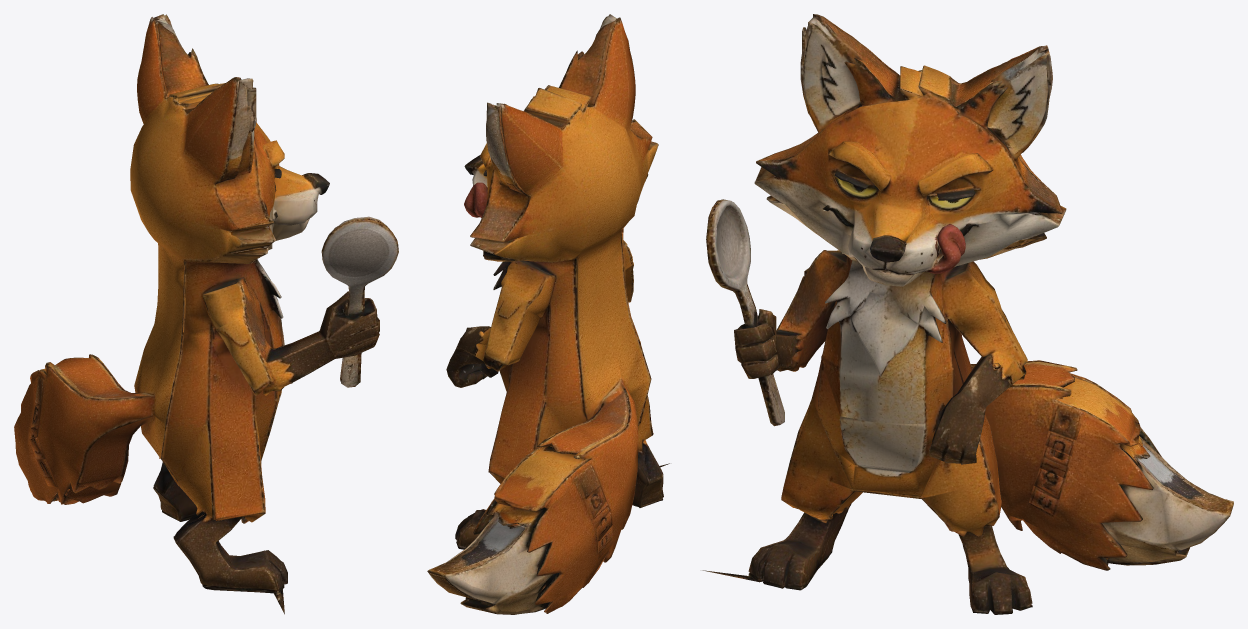
3 renders of one model, left to right at view 1: azimuth 30°, elevation 25°; view 2: azimuth 150°, elevation 25°; view 3: azimuth 270°, elevation 25°, orthographic. The views are drawn at different scales.
Parts seen in each view (by area): view 1: tripo_node_1bc673ec-f310-4784-ba86-549e604a5212; view 2: tripo_node_1bc673ec-f310-4784-ba86-549e604a5212; view 3: tripo_node_1bc673ec-f310-4784-ba86-549e604a5212.
Part boxes in pixels (left/top/right/bottom): tripo_node_1bc673ec-f310-4784-ba86-549e604a5212: left=14, top=14, right=398, bottom=614; tripo_node_1bc673ec-f310-4784-ba86-549e604a5212: left=427, top=14, right=669, bottom=614; tripo_node_1bc673ec-f310-4784-ba86-549e604a5212: left=702, top=14, right=1233, bottom=614.
Bounding box in the file's own units: 0.4433 × 0.9788 × 0.8444.
Materials: 1 (1 with a texture image).
